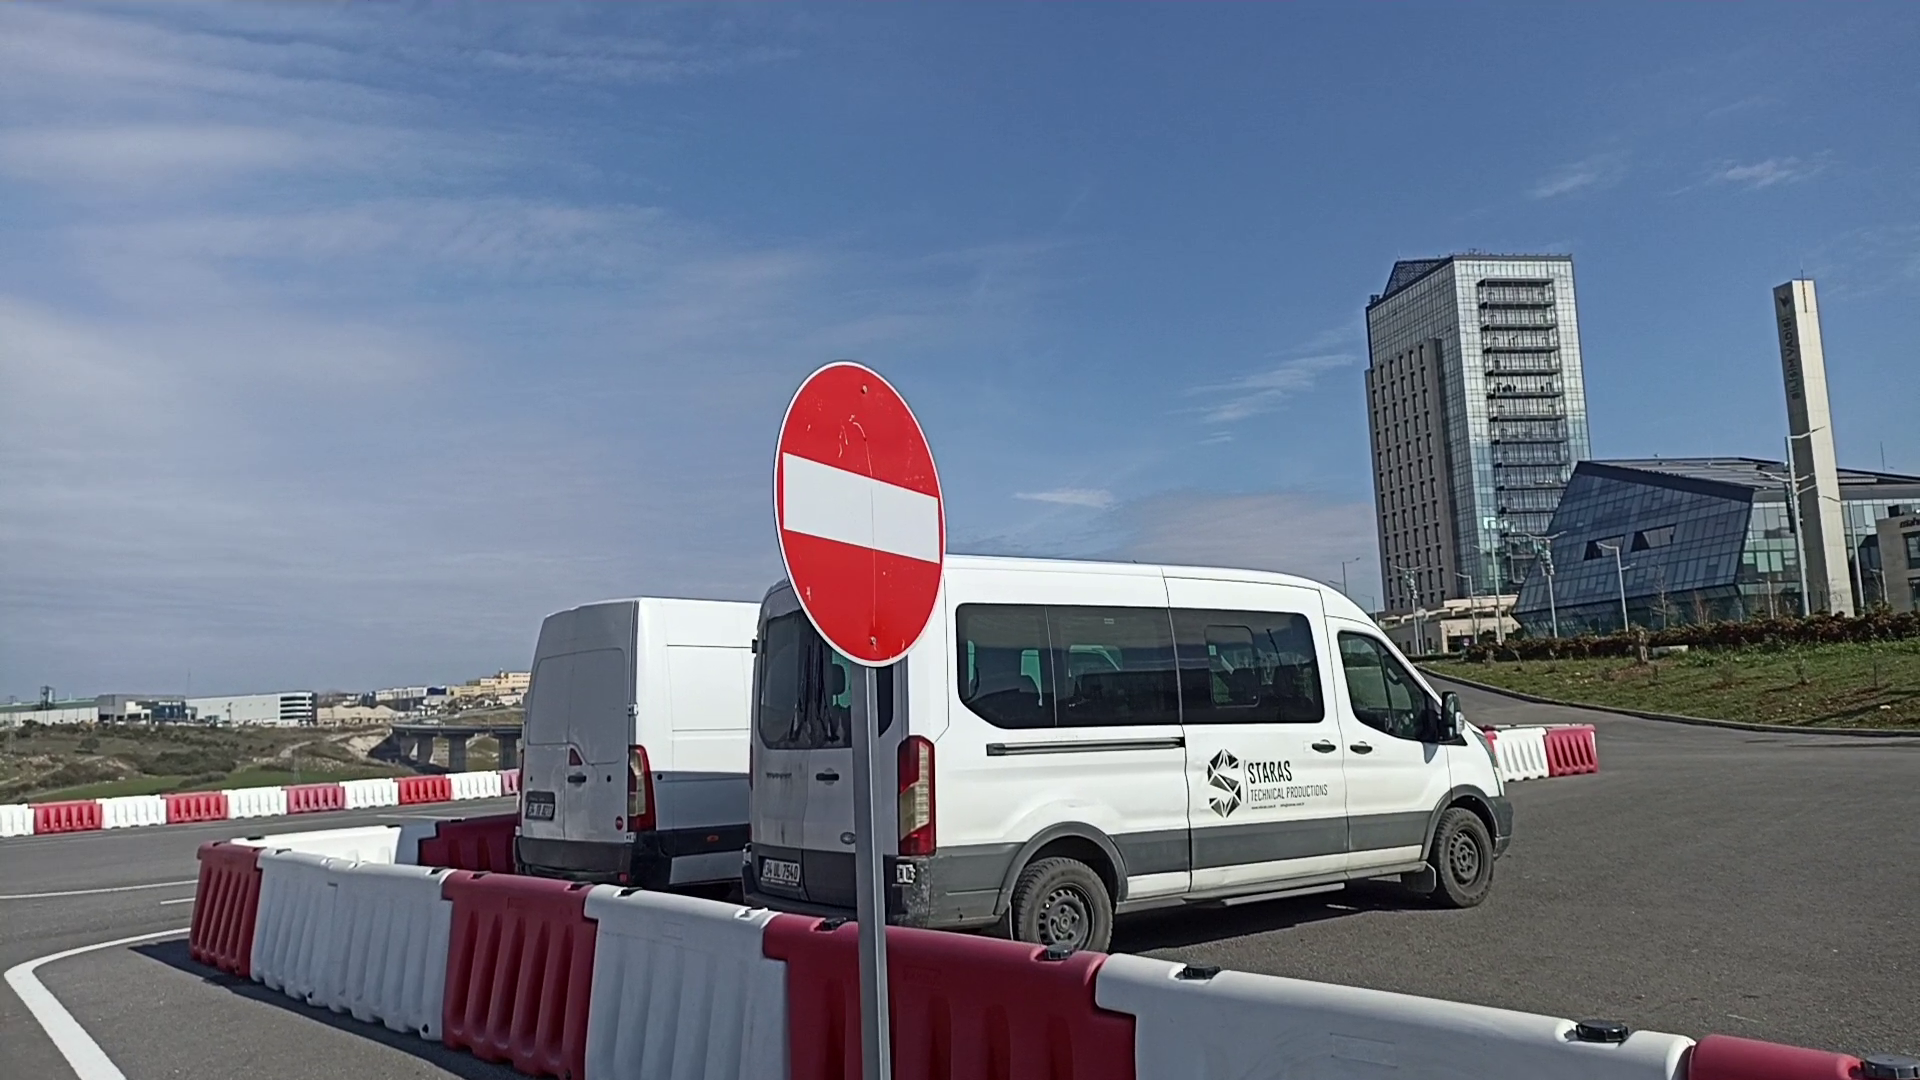noentryway: (766, 353, 951, 675)
